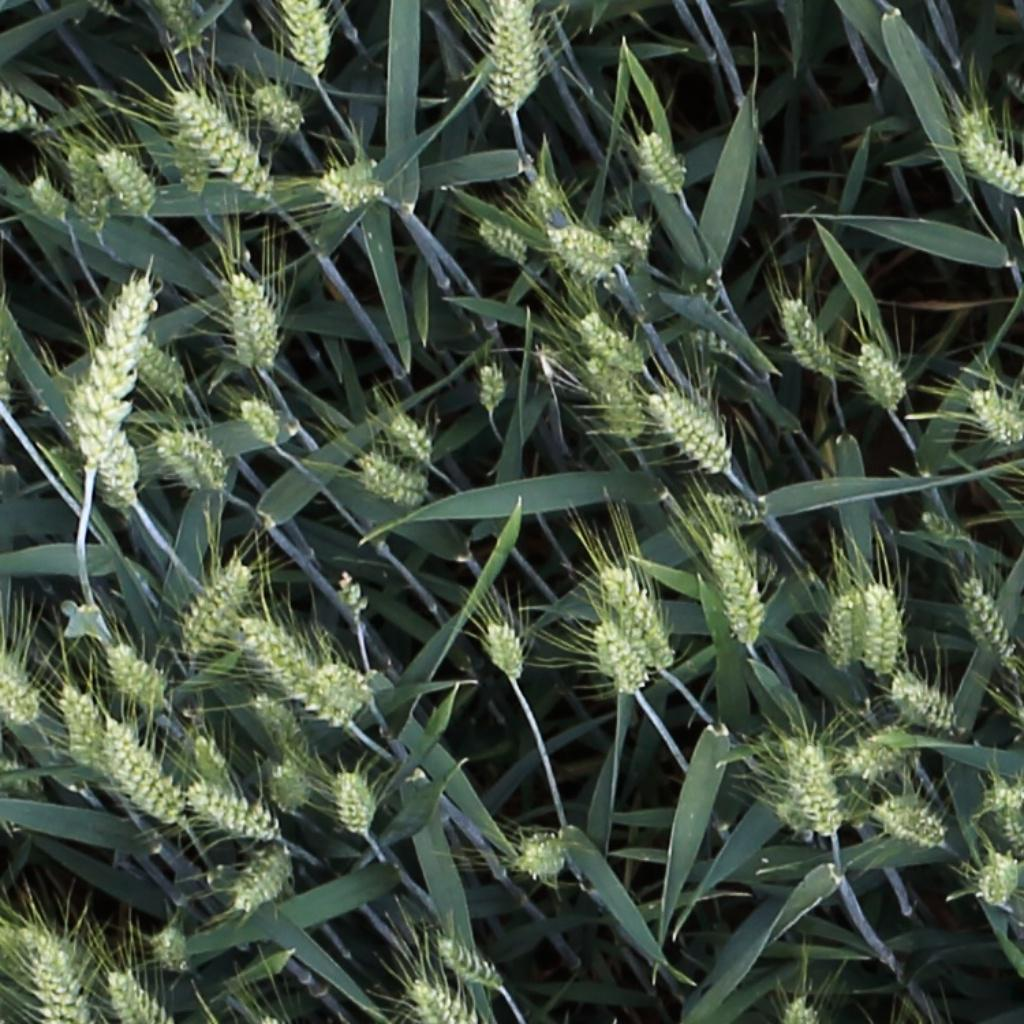0-0: (77, 268, 155, 455), (242, 614, 346, 733), (170, 90, 274, 197), (180, 535, 269, 657), (326, 610, 424, 720), (589, 561, 678, 671), (61, 380, 134, 511), (766, 727, 855, 831), (100, 720, 183, 830), (478, 0, 552, 118), (222, 257, 295, 366), (580, 343, 652, 441), (19, 924, 87, 1022), (651, 390, 731, 473), (712, 532, 765, 651), (859, 561, 909, 681), (961, 573, 1019, 675), (544, 214, 630, 282), (159, 414, 231, 491), (251, 690, 314, 774), (188, 787, 281, 842), (310, 660, 387, 726), (780, 292, 838, 378), (839, 725, 929, 778), (574, 304, 646, 369), (109, 641, 171, 714), (511, 165, 572, 239), (60, 679, 108, 773), (596, 617, 648, 700), (65, 135, 109, 233), (105, 962, 174, 1024), (314, 153, 391, 207), (96, 144, 158, 211), (285, 1, 340, 76), (1, 644, 45, 736), (876, 792, 947, 847), (135, 340, 206, 395), (436, 935, 505, 991), (963, 131, 1024, 193), (860, 334, 905, 416), (233, 850, 290, 914), (640, 125, 690, 196), (895, 678, 961, 731), (184, 729, 233, 796), (987, 777, 1024, 865), (357, 453, 427, 498), (516, 831, 579, 881), (969, 387, 1022, 445), (387, 410, 438, 468), (334, 768, 372, 845), (410, 980, 475, 1024), (234, 393, 282, 451), (828, 591, 860, 678), (486, 615, 525, 686), (477, 215, 532, 264), (479, 354, 514, 426), (252, 84, 303, 132), (27, 172, 72, 225), (983, 846, 1017, 916), (263, 762, 305, 817), (0, 81, 37, 143), (151, 922, 189, 978), (334, 566, 368, 628), (158, 0, 199, 46), (703, 494, 764, 523), (920, 512, 970, 544), (786, 984, 815, 1024), (87, 0, 124, 23)
